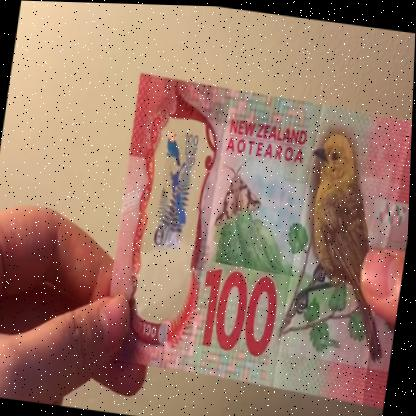100B: (140, 122, 208, 298)
